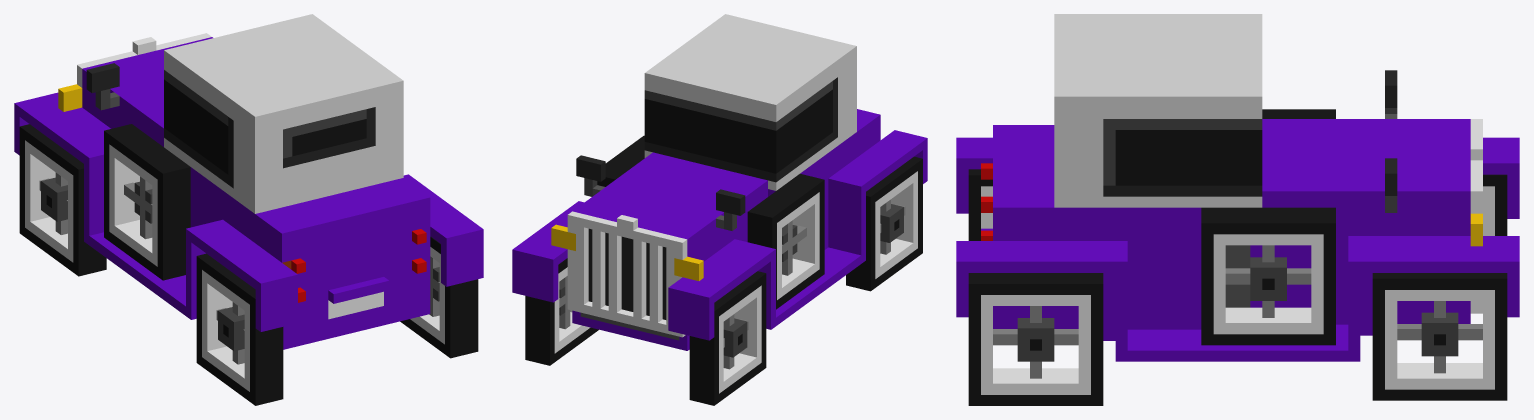
3 renders of one model, left to right at view 1: azimuth 30°, elevation 25°; view 2: azimuth 150°, elevation 25°; view 3: azimuth 270°, elevation 25°, orthographic. The views are drawn at different scales.
Visible parts, largest first — view 1: alll cars3-27; view 2: alll cars3-27; view 3: alll cars3-27.
Part boxes in pixels (left/top/right/bottom): alll cars3-27: left=14, top=14, right=483, bottom=405; alll cars3-27: left=512, top=14, right=927, bottom=405; alll cars3-27: left=956, top=14, right=1519, bottom=405.
Bounding box in the file's own units: 2.99 × 3.24 × 5.74.
1 material, 1 textured.
